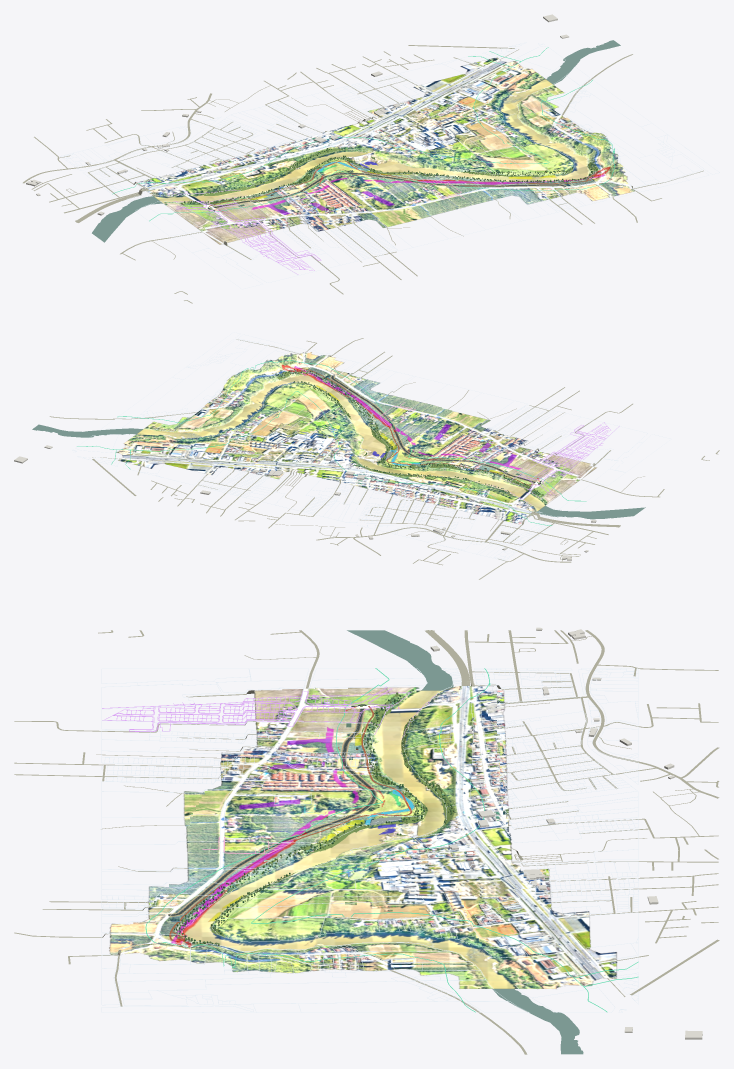
The model's file is parque.glb.
3 renders of one model, top to bottom at view 1: azimuth 30°, elevation 25°; view 2: azimuth 150°, elevation 25°; view 3: azimuth 270°, elevation 25°, orthographic. The views are drawn at different scales.
Parts seen in each view (by area): view 1: MDT existente · sem terraplenagem indicativa, 02 Cadastro de lotes, Ortofoto plana nas lacunas do MDT, Ruas OSM, 11 Loteamento Devigilli, Rio no entorno, Projeção do masterplan indicativo, 03 APP, Gramado das margens, Arborização ciliar e da rotatória; view 2: MDT existente · sem terraplenagem indicativa, 02 Cadastro de lotes, Ortofoto plana nas lacunas do MDT, Ruas OSM, 11 Loteamento Devigilli, Rio no entorno, Projeção do masterplan indicativo, 03 APP, Gramado das margens, Arborização ciliar e da rotatória; view 3: MDT existente · sem terraplenagem indicativa, 02 Cadastro de lotes, Ortofoto plana nas lacunas do MDT, Ruas OSM, Rio no entorno, 11 Loteamento Devigilli, Projeção do masterplan indicativo, Gramado das margens, 03 APP, Arborização ciliar e da rotatória.
Boxes of the visible parts, x1=… form: MDT existente · sem terraplenagem indicativa: x1=139, y1=94, x2=630, y2=240; 02 Cadastro de lotes: x1=60, y1=42, x2=719, y2=289; Ortofoto plana nas lacunas do MDT: x1=136, y1=57, x2=635, y2=244; Ruas OSM: x1=23, y1=45, x2=703, y2=303; 11 Loteamento Devigilli: x1=167, y1=190, x2=321, y2=274; Rio no entorno: x1=92, y1=40, x2=620, y2=242; Projeção do masterplan indicativo: x1=213, y1=161, x2=610, y2=214; 03 APP: x1=112, y1=47, x2=614, y2=221; Gramado das margens: x1=180, y1=148, x2=597, y2=205; Arborização ciliar e da rotatória: x1=181, y1=148, x2=597, y2=207; MDT existente · sem terraplenagem indicativa: x1=175, y1=352, x2=590, y2=519; 02 Cadastro de lotes: x1=72, y1=332, x2=671, y2=560; Ortofoto plana nas lacunas do MDT: x1=116, y1=353, x2=596, y2=524; Ruas OSM: x1=49, y1=338, x2=719, y2=579; 11 Loteamento Devigilli: x1=487, y1=422, x2=619, y2=504; Rio no entorno: x1=32, y1=424, x2=645, y2=519; Projeção do masterplan indicativo: x1=281, y1=364, x2=541, y2=481; 03 APP: x1=77, y1=360, x2=586, y2=525; Gramado das margens: x1=275, y1=370, x2=544, y2=496; Arborização ciliar e da rotatória: x1=275, y1=369, x2=543, y2=494; MDT existente · sem terraplenagem indicativa: x1=109, y1=686, x2=535, y2=966; 02 Cadastro de lotes: x1=101, y1=668, x2=638, y2=1012; Ortofoto plana nas lacunas do MDT: x1=109, y1=690, x2=617, y2=988; Ruas OSM: x1=14, y1=630, x2=719, y2=1054; Rio no entorno: x1=347, y1=630, x2=583, y2=1054; 11 Loteamento Devigilli: x1=102, y1=687, x2=436, y2=739; Projeção do masterplan indicativo: x1=171, y1=706, x2=400, y2=947; Gramado das margens: x1=172, y1=694, x2=454, y2=946; 03 APP: x1=145, y1=668, x2=638, y2=1012; Arborização ciliar e da rotatória: x1=174, y1=692, x2=454, y2=945.
Size of what is drawn, in the model's own units: 2834 by 50.81 by 1895.
Materials: 46 (2 with a texture image).
